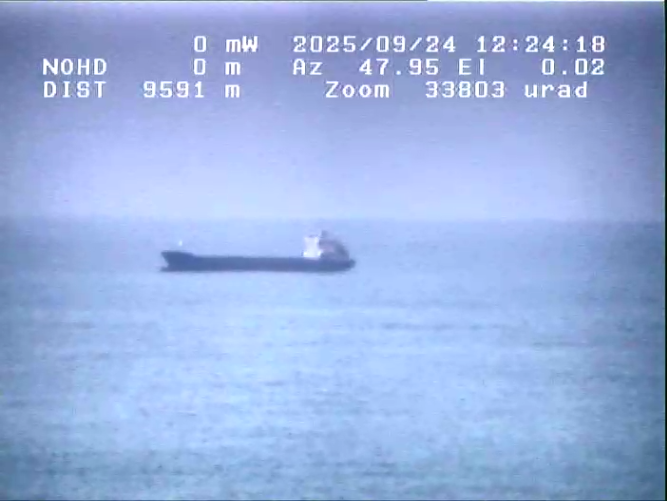TANKER: (151, 209, 374, 285)
